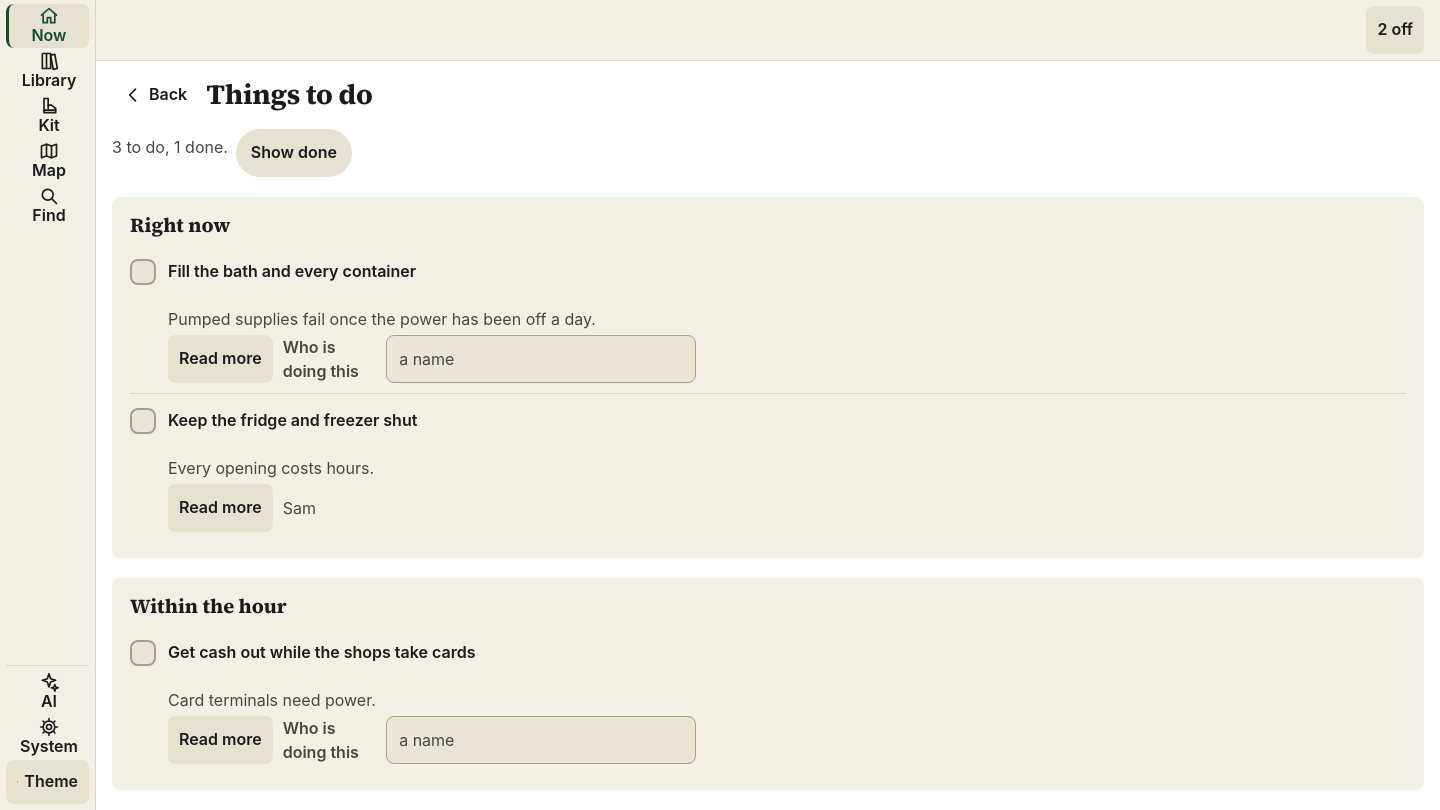
Test: Tasks › ticks a task off
Click the checkbox labelled "Get cash out while the shops take cards" at {"x": 143, "y": 653}, box top-left (130, 640), bottom-right (156, 666)
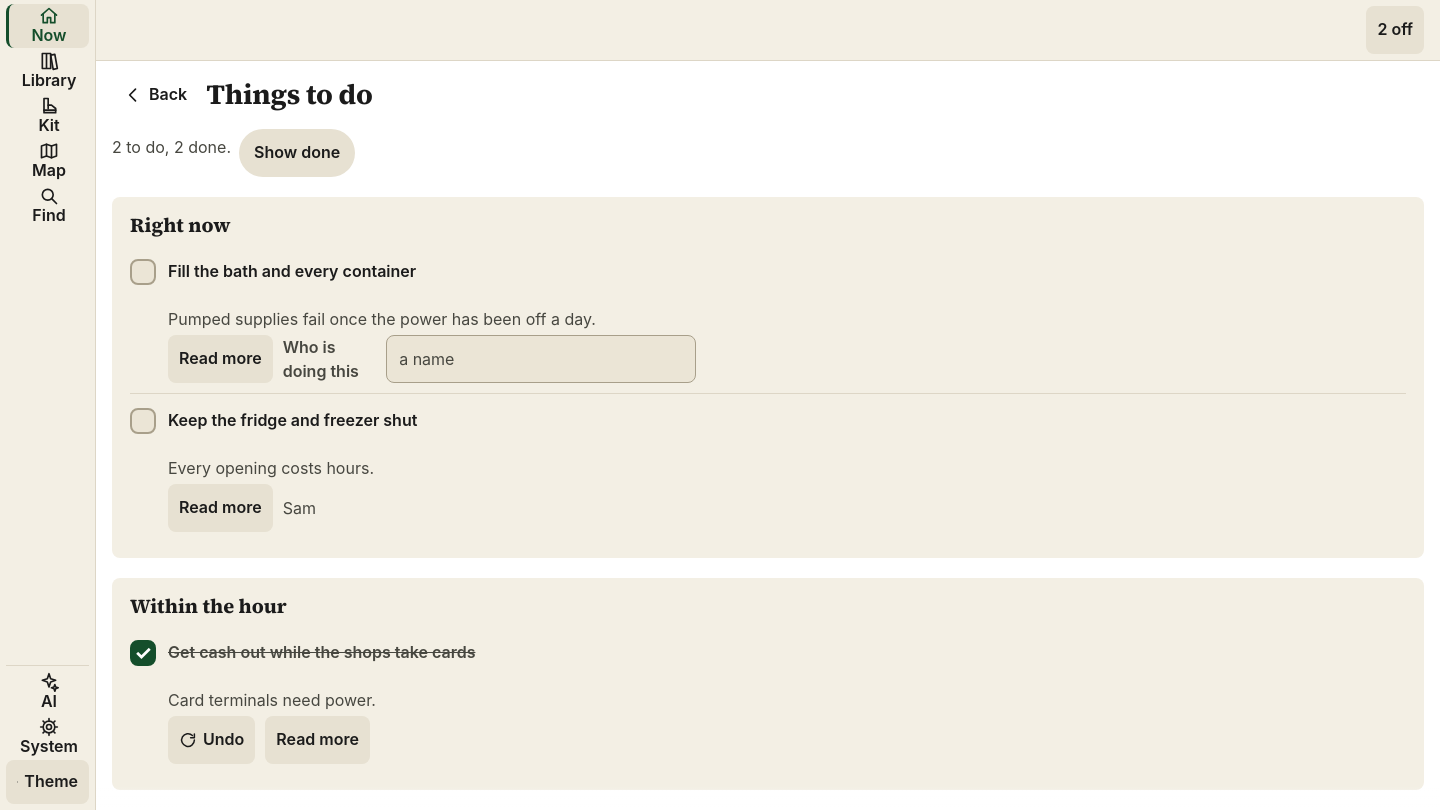
Expected: the text "2 to do, 2 done." is shown, top-left (112, 135), bottom-right (231, 159)
